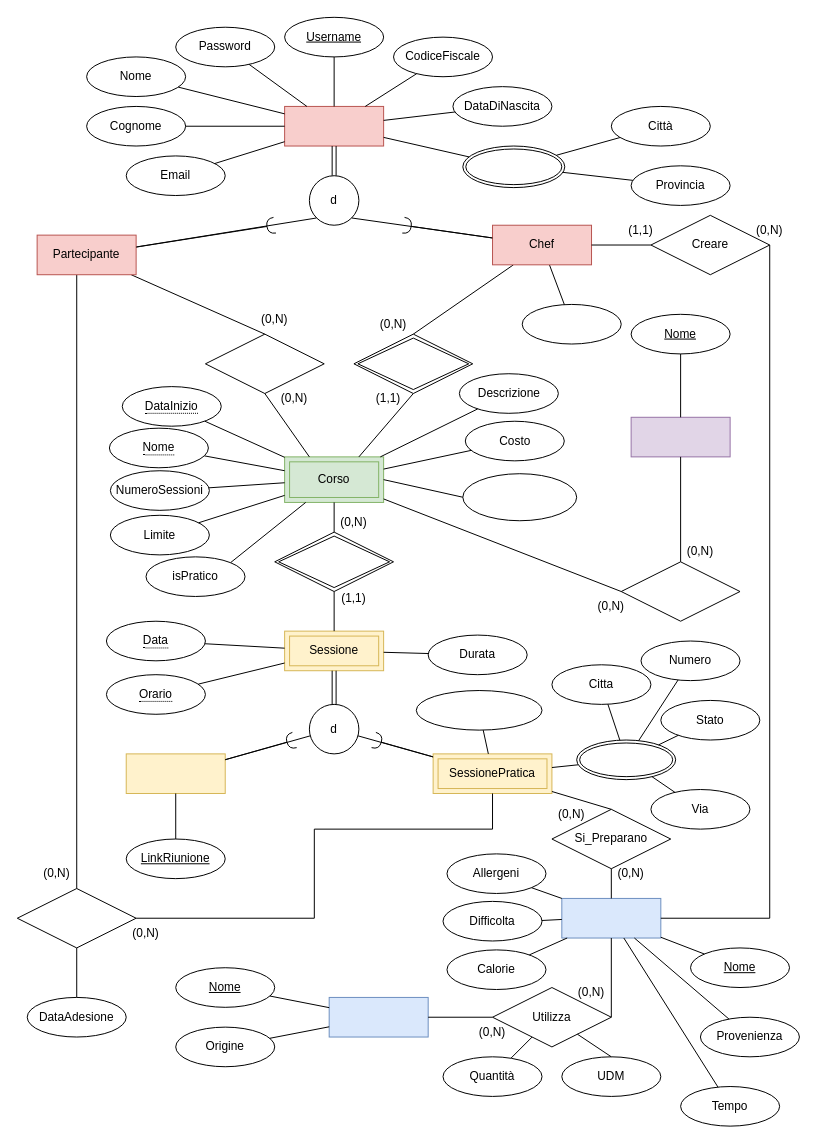
This 817x1143 diagram has some shape labels left out. Each missing label, with the centre of its shape:
"Adesione" belongs at (x=76, y=918).
"Aggiunge" belongs at (x=413, y=363).
"Argomento" belongs at (x=680, y=436).
"Curriculum" belongs at (x=571, y=323).
"FrequenzaSessioni" belongs at (x=519, y=497).
"Indirizzo" belongs at (x=626, y=759).
"Ingrediente" belongs at (x=378, y=1016).
"LuogoDiNascita" belongs at (x=513, y=166).
"NumeroPartecipanti" belongs at (x=478, y=710).
"Ricetta" belongs at (x=611, y=917).
"SessioneOnline" belongs at (x=175, y=773).
"Si_Compone" belongs at (x=334, y=561).
"Si_Iscrive" belongs at (x=264, y=363).
"Tratta" belongs at (x=680, y=591).
"Utente" belongs at (x=334, y=125).
